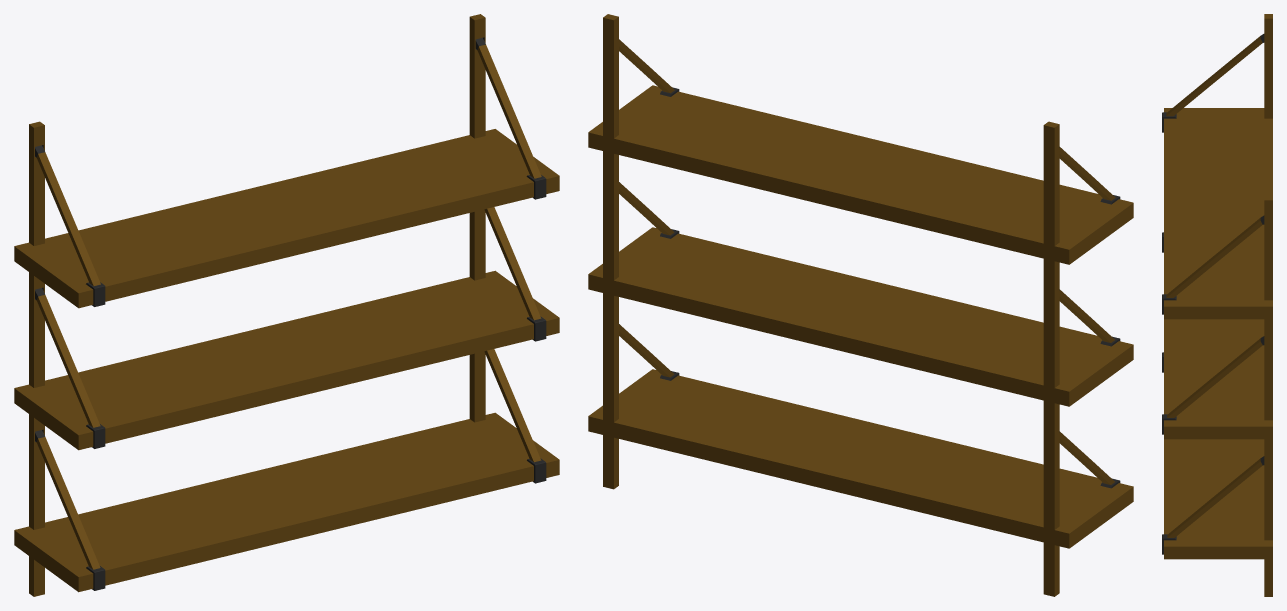
File: BookShelf_2.1.fbx
3 renders of one model, left to right at view 1: azimuth 30°, elevation 25°; view 2: azimuth 150°, elevation 25°; view 3: azimuth 270°, elevation 25°, orthographic. The views are drawn at different scales.
Parts seen in each view (by area): view 1: BookShelf2.1; view 2: BookShelf2.1; view 3: BookShelf2.1.
Part boxes in pixels (x1,y1,x2,y2): BookShelf2.1: [14, 14, 559, 596]; BookShelf2.1: [588, 14, 1133, 596]; BookShelf2.1: [1162, 14, 1272, 596].
Bounding box in the file's own units: 326 × 304 × 76.88.
